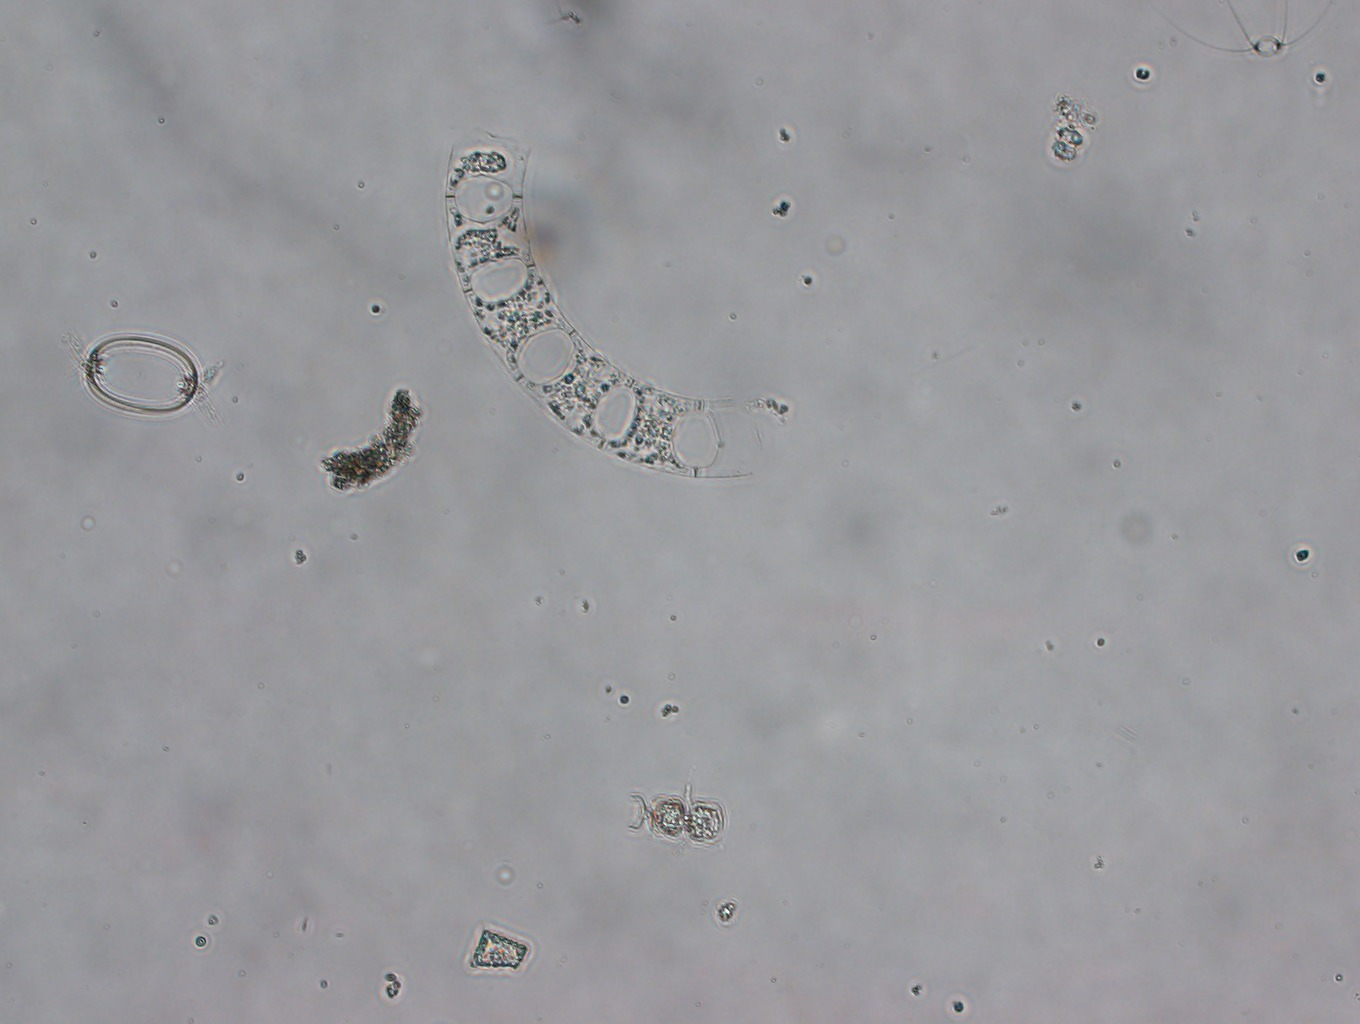chaetoceros: (1155, 1, 1332, 56)
eucampia: (443, 131, 758, 479)
